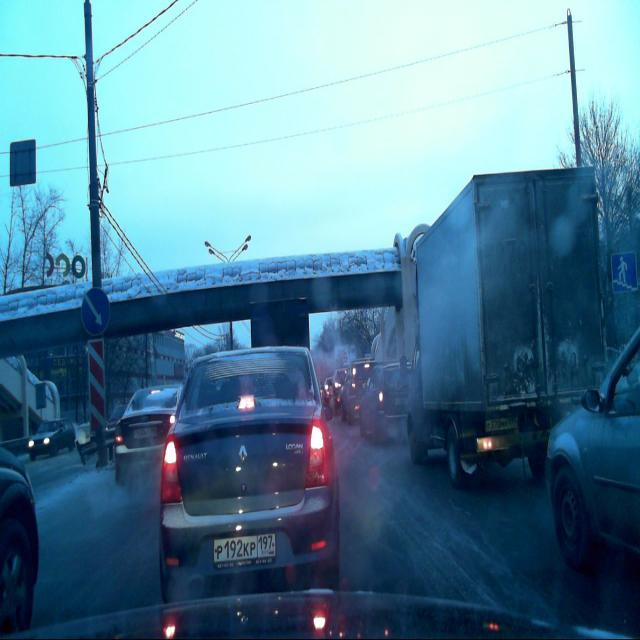object: (88, 340, 106, 433)
road sign: (611, 252, 637, 299)
